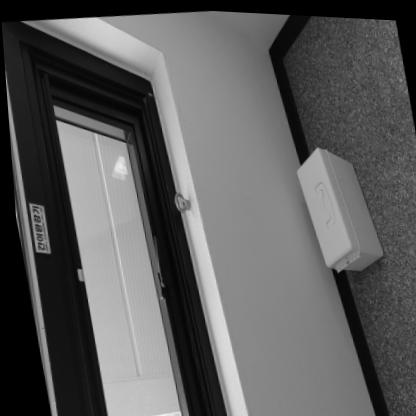DDL: (289, 137, 383, 273)
